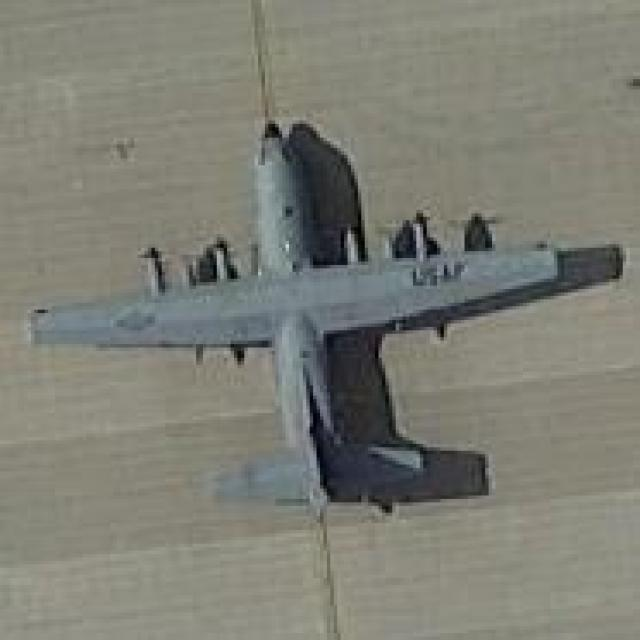C-130_TopDown: (26, 110, 630, 530)
